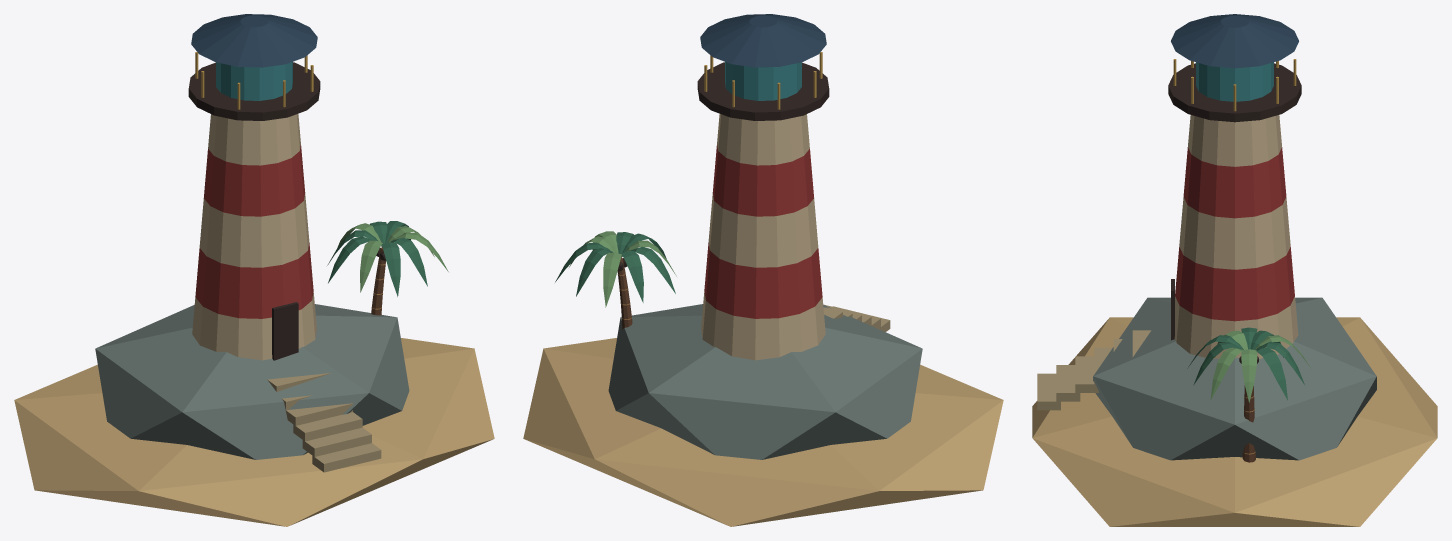
File: PirateCove_LighthouseIsland_Showcase.glb
3 renders of one model, left to right at view 1: azimuth 30°, elevation 25°; view 2: azimuth 150°, elevation 25°; view 3: azimuth 270°, elevation 25°, orthographic.
Parts seen in each view (by area): view 1: PirateCove_LighthouseIsland_Showcase; view 2: PirateCove_LighthouseIsland_Showcase; view 3: PirateCove_LighthouseIsland_Showcase.
Boxes of the visible parts, x1=… form: PirateCove_LighthouseIsland_Showcase: x1=14, y1=14, x2=494, y2=526; PirateCove_LighthouseIsland_Showcase: x1=523, y1=14, x2=1003, y2=526; PirateCove_LighthouseIsland_Showcase: x1=1032, y1=14, x2=1437, y2=526.
Size of the model in its own units: 10.73 by 10.18 by 8.51.
